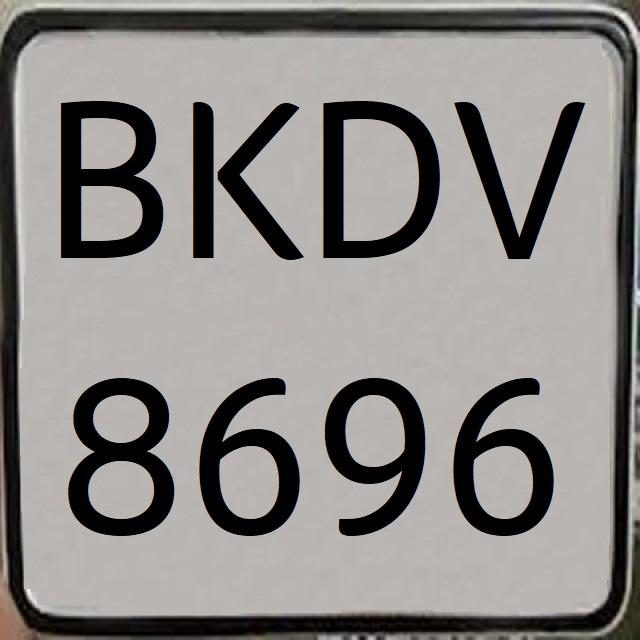5: (195, 353, 301, 545)
8: (62, 348, 180, 545)
9: (321, 350, 428, 553)
B: (54, 87, 168, 280)
D: (317, 93, 442, 283)
K: (195, 77, 311, 270)
V: (458, 89, 592, 274)
